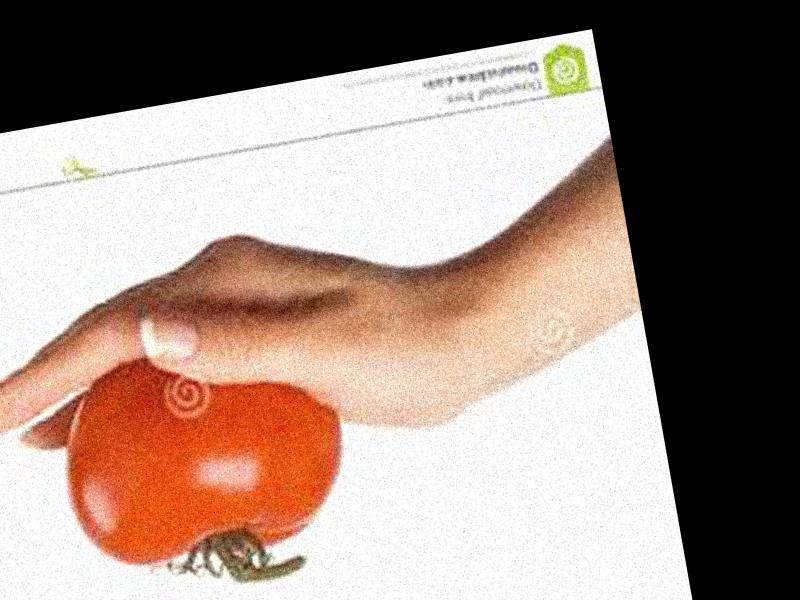Tomato: (49, 328, 358, 578)
